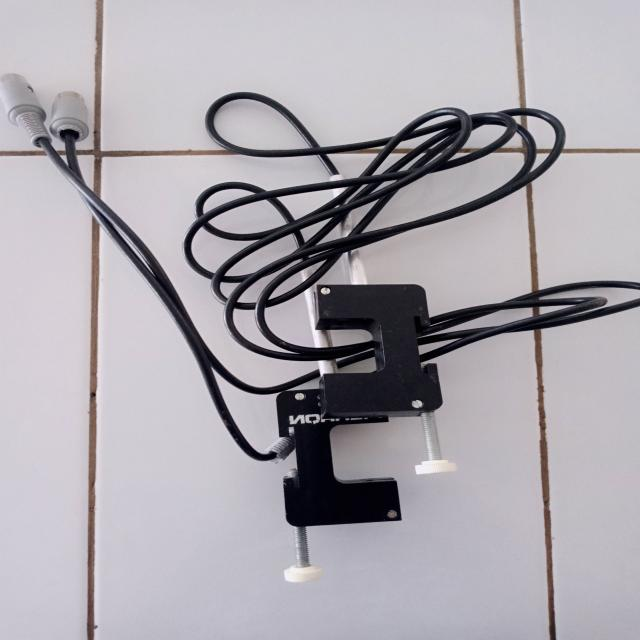Bulb Socket: (0, 54, 602, 491)
